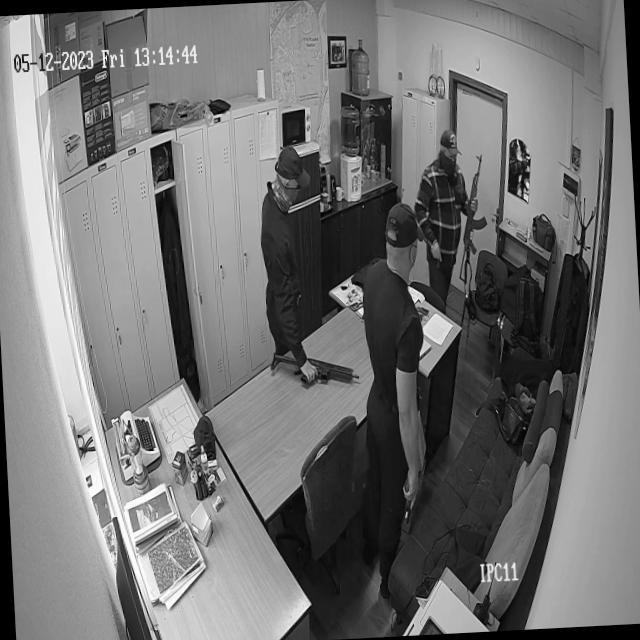gun: (270, 344, 360, 392), (458, 153, 491, 283), (401, 472, 419, 526)
person with a gun: (356, 202, 434, 540), (257, 146, 317, 376), (412, 127, 482, 294)
